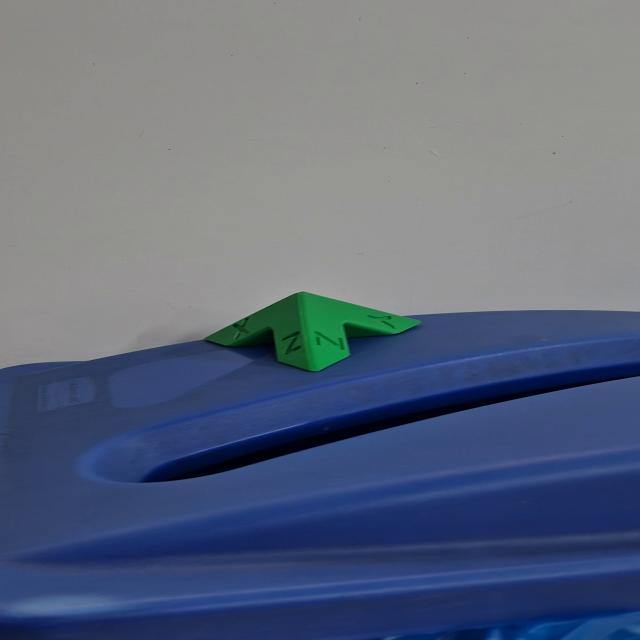objects: (201, 290, 424, 373)
